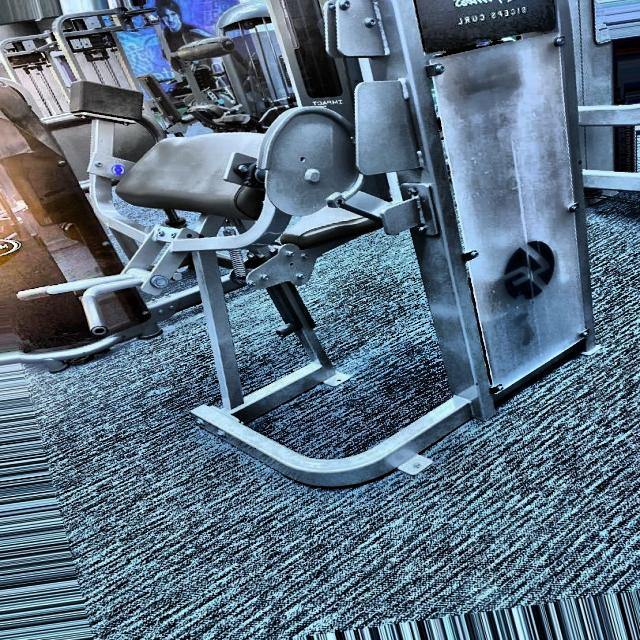bicep_curl_machine: (2, 10, 449, 516), (442, 5, 531, 35)
